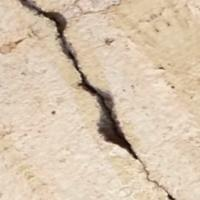crack: (19, 0, 158, 184)
